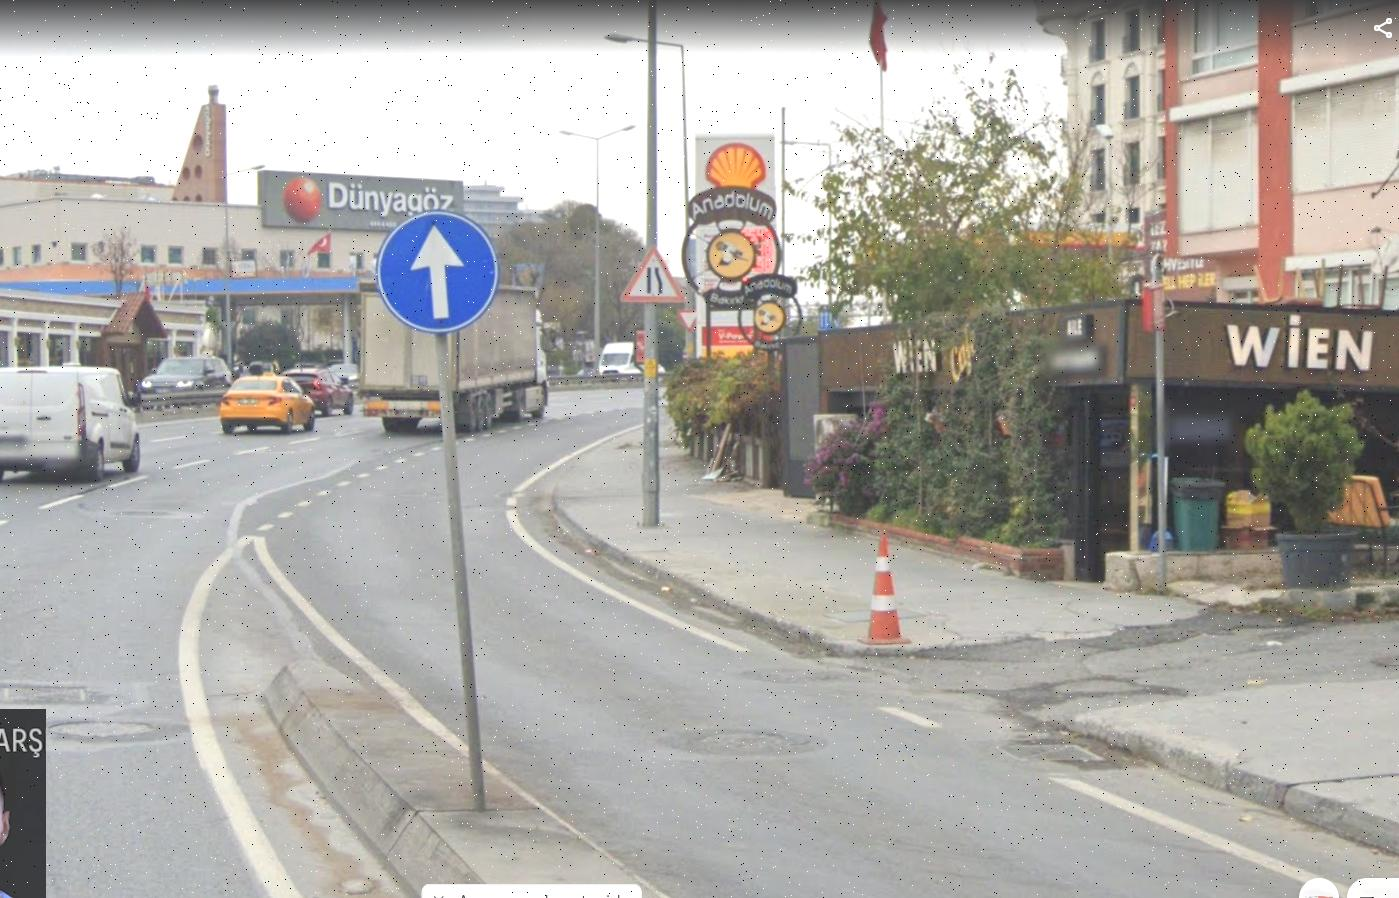forward: (381, 212, 502, 332)
